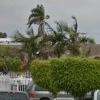Tree: (31, 41, 100, 94)
